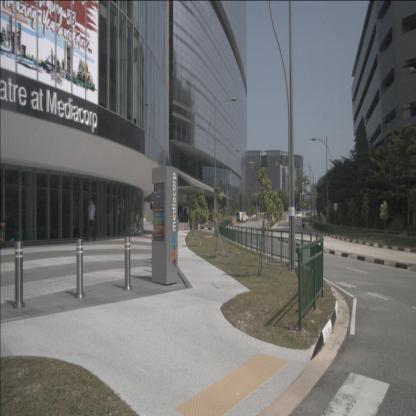cone: (183, 223, 186, 230)
